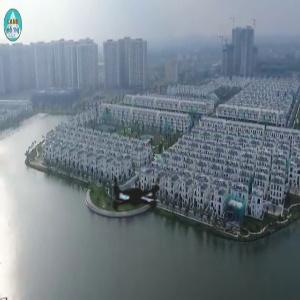drone: (62, 120, 222, 280)
